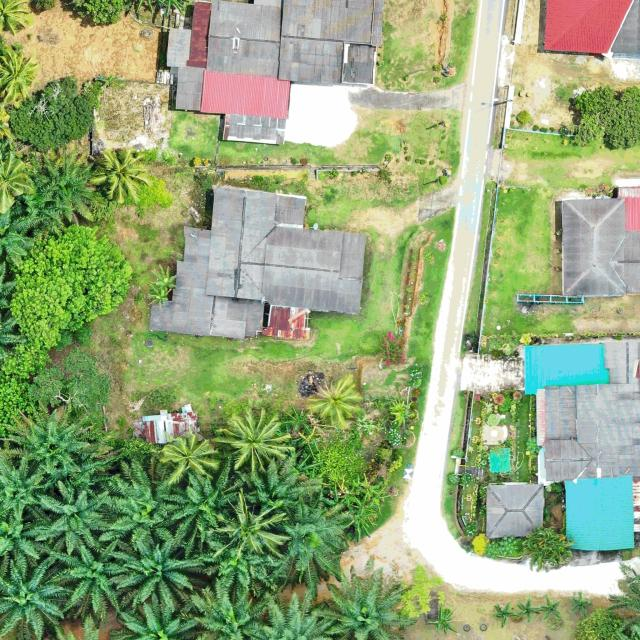Tree: (10, 222, 133, 350), (105, 522, 210, 612), (309, 566, 419, 640), (94, 457, 184, 547), (46, 537, 134, 627), (270, 495, 351, 591), (0, 399, 97, 475), (28, 349, 110, 433), (8, 76, 101, 150), (24, 146, 110, 226), (157, 461, 242, 537), (28, 479, 110, 553), (242, 452, 326, 524), (0, 553, 66, 640), (185, 578, 276, 640), (215, 407, 292, 478), (212, 490, 290, 559), (199, 539, 280, 594), (574, 84, 640, 150), (91, 148, 151, 205), (159, 431, 219, 487), (306, 374, 363, 426), (348, 473, 388, 542), (0, 41, 41, 102), (0, 152, 33, 214), (574, 606, 626, 640), (0, 0, 33, 36), (424, 604, 458, 636), (279, 405, 312, 433), (493, 599, 518, 629), (151, 264, 177, 292), (146, 279, 169, 310), (540, 593, 562, 622), (517, 596, 541, 622), (570, 590, 591, 614)
